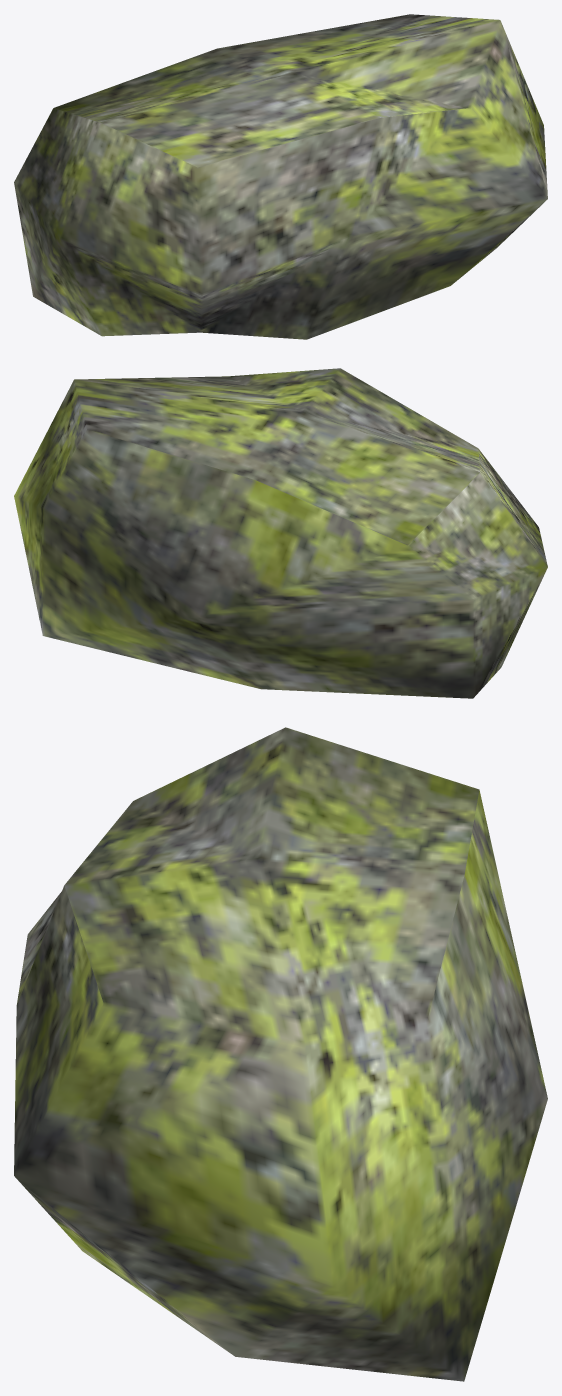
Rendered from rock.glb.
The picture shows the model from 3 angles, top to bottom: view 1: azimuth 30°, elevation 25°; view 2: azimuth 150°, elevation 25°; view 3: azimuth 270°, elevation 25°; orthographic projection. The views are drawn at different scales.
Parts seen in each view (by area): view 1: Cube; view 2: Cube; view 3: Cube.
Boxes of the visible parts, x1,y1,x2,y2 form: Cube: (14,14,547,339); Cube: (14,368,547,698); Cube: (14,727,547,1381).
Size of the model in its own units: 4.24 by 1.81 by 2.39.
1 material, 1 textured.
